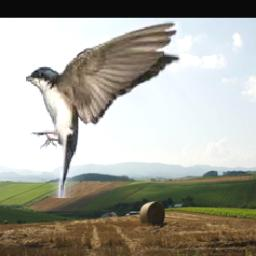Swallow: (26, 22, 181, 199)
